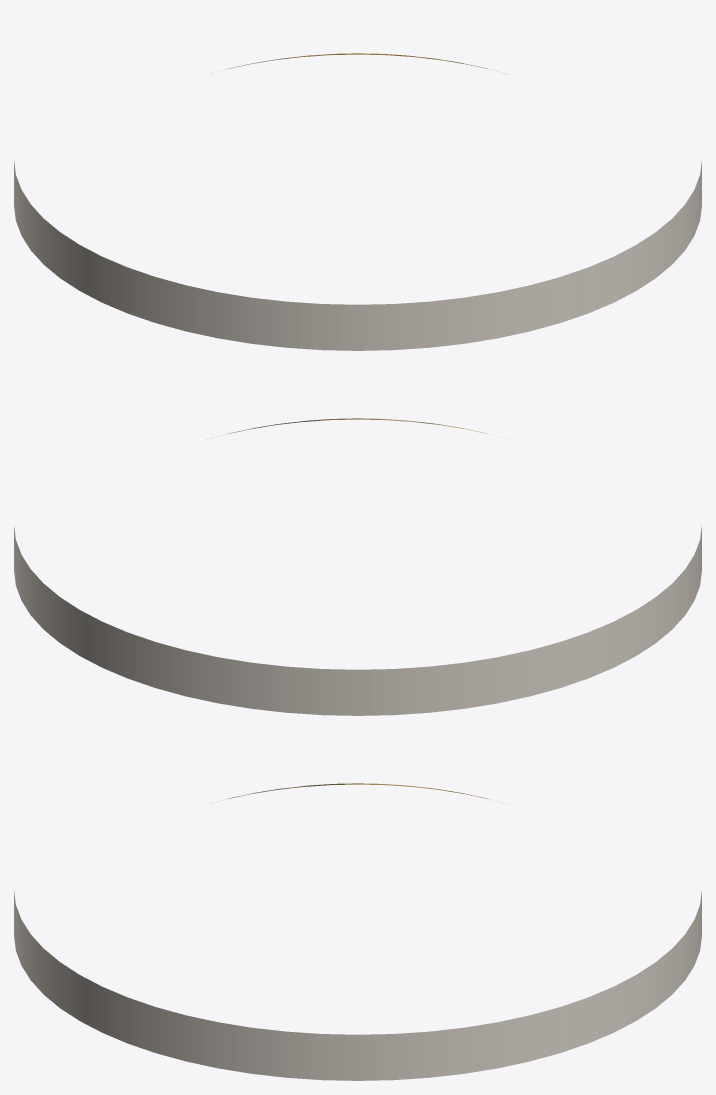
The model's file is haleem.glb.
The picture shows the model from 3 angles, top to bottom: view 1: azimuth 30°, elevation 25°; view 2: azimuth 150°, elevation 25°; view 3: azimuth 270°, elevation 25°; orthographic projection.
Visible parts, largest first — view 1: haleem; view 2: haleem; view 3: haleem.
Part boxes in pixels (<box>): haleem: <box>14,53,701,350</box>; haleem: <box>14,418,701,715</box>; haleem: <box>14,783,701,1080</box>.
Bounding box in the file's own units: 0.27 × 0.0415 × 0.27.
Materials: 1 (1 with a texture image).
